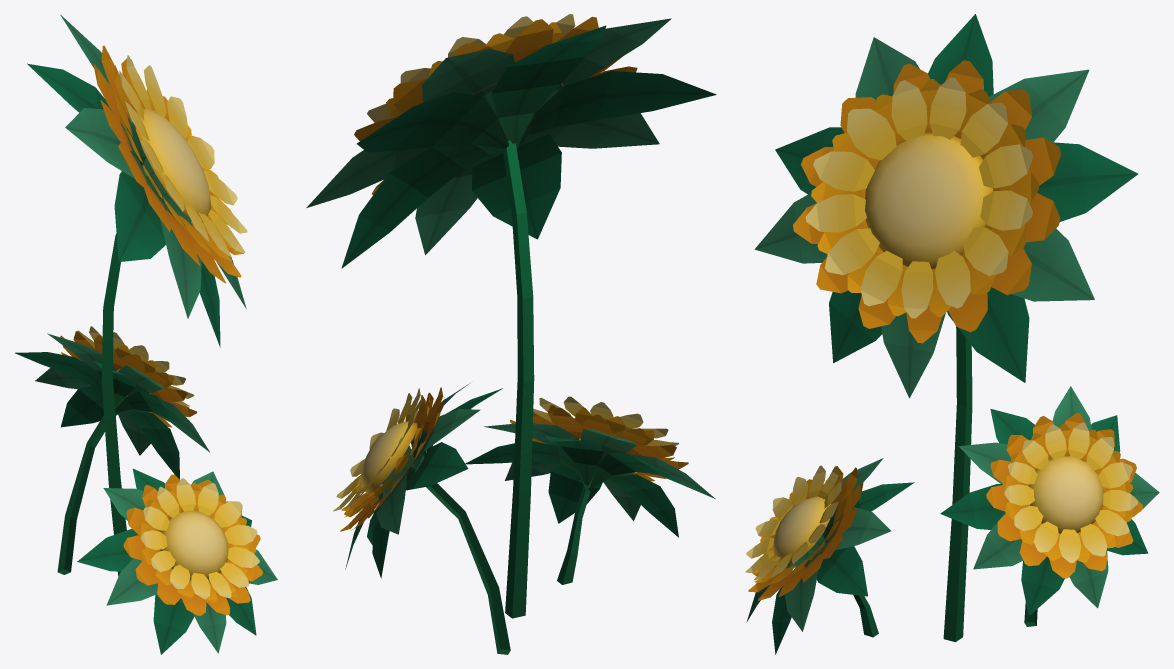
File: Flowers_Big_Yellow_1.fbx
The picture shows the model from 3 angles, left to right: view 1: azimuth 30°, elevation 25°; view 2: azimuth 150°, elevation 25°; view 3: azimuth 270°, elevation 25°; orthographic projection. The views are drawn at different scales.
Visible parts, largest first — view 1: Plane.155; view 2: Plane.155; view 3: Plane.155.
Boxes of the visible parts, x1,y1,x2,y2 form: Plane.155: (15,14,277,654); Plane.155: (306,14,716,654); Plane.155: (745,14,1159,654).
Size of the model in its own units: 137 by 210 by 324.
